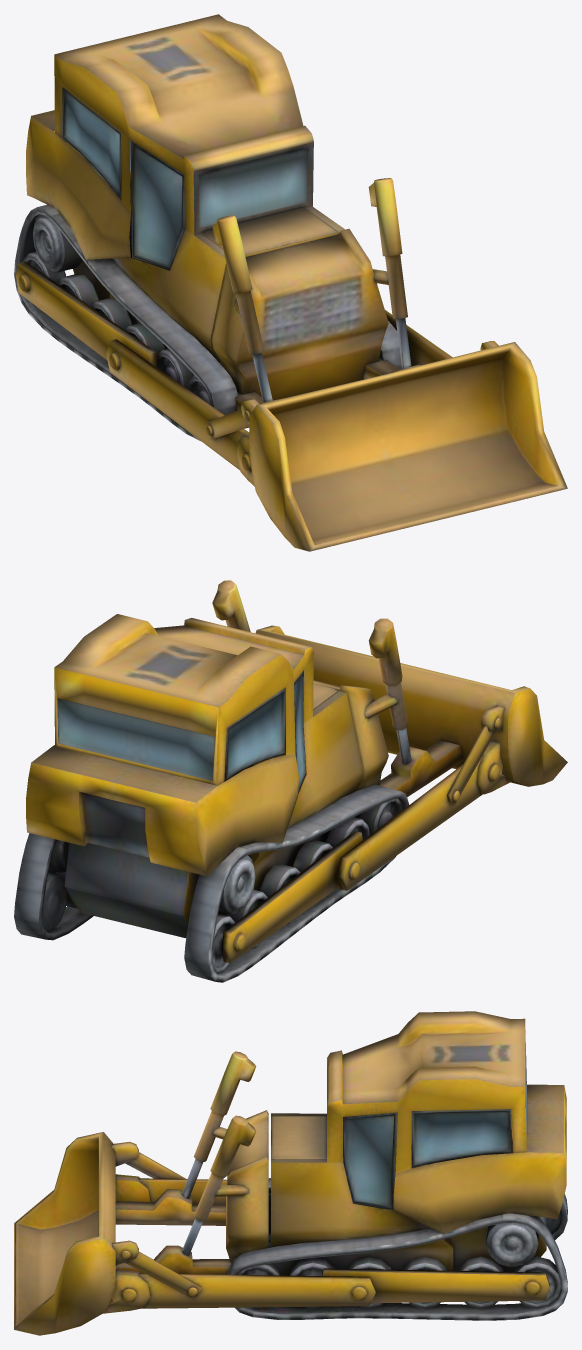
The model's file is Engineers.glb.
3 views of the same model, one above another, from view 1: azimuth 30°, elevation 25°; view 2: azimuth 150°, elevation 25°; view 3: azimuth 270°, elevation 25° (orthographic). The views are drawn at different scales.
Parts seen in each view (by area): view 1: Plane.001; view 2: Plane.001; view 3: Plane.001.
Part boxes in pixels (box(x1,y1,x2,y2)): Plane.001: box(14, 14, 567, 551); Plane.001: box(14, 580, 567, 982); Plane.001: box(14, 1011, 567, 1335).
Bounding box in the file's own units: 1.89 × 1.96 × 4.15.
Materials: 1 (1 with a texture image).
